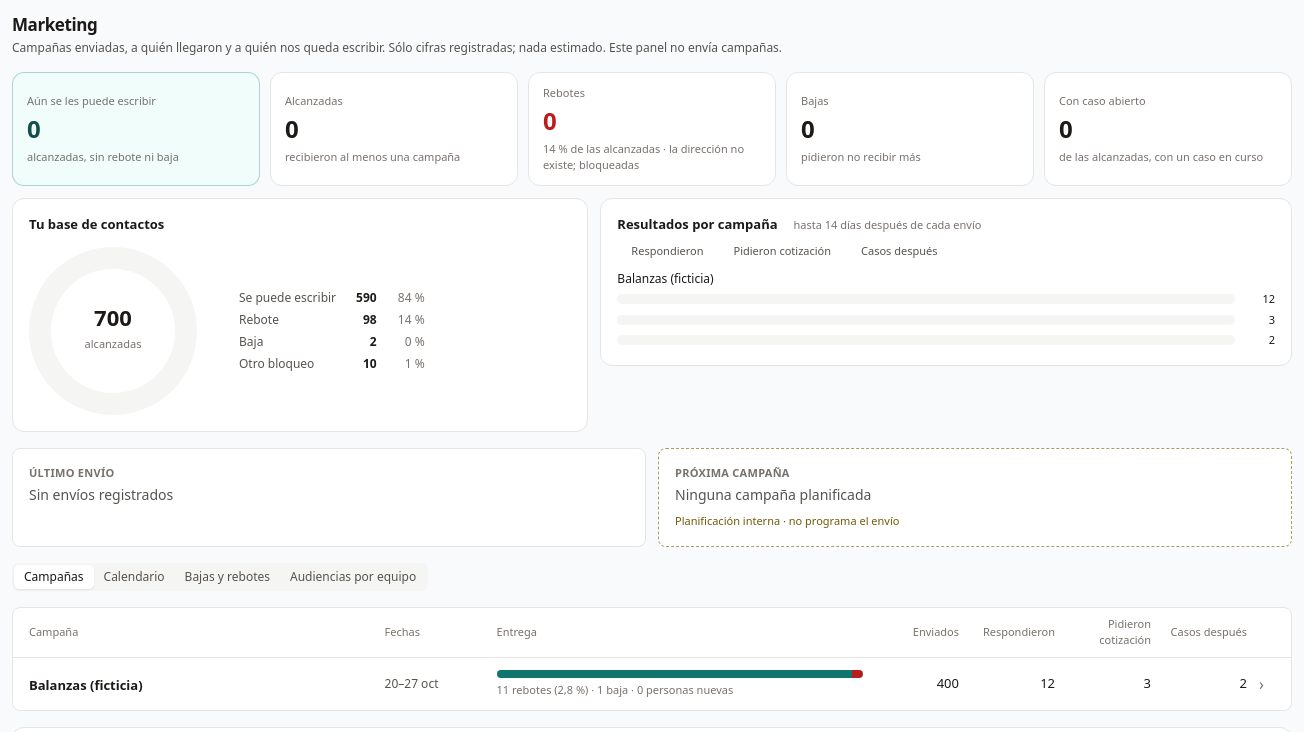
Marketing analytics › campaign row shows measured results and its click opens the detail
Click the button with test id "campaign-row". click: (646, 684)
box: [29,670,1264,698]
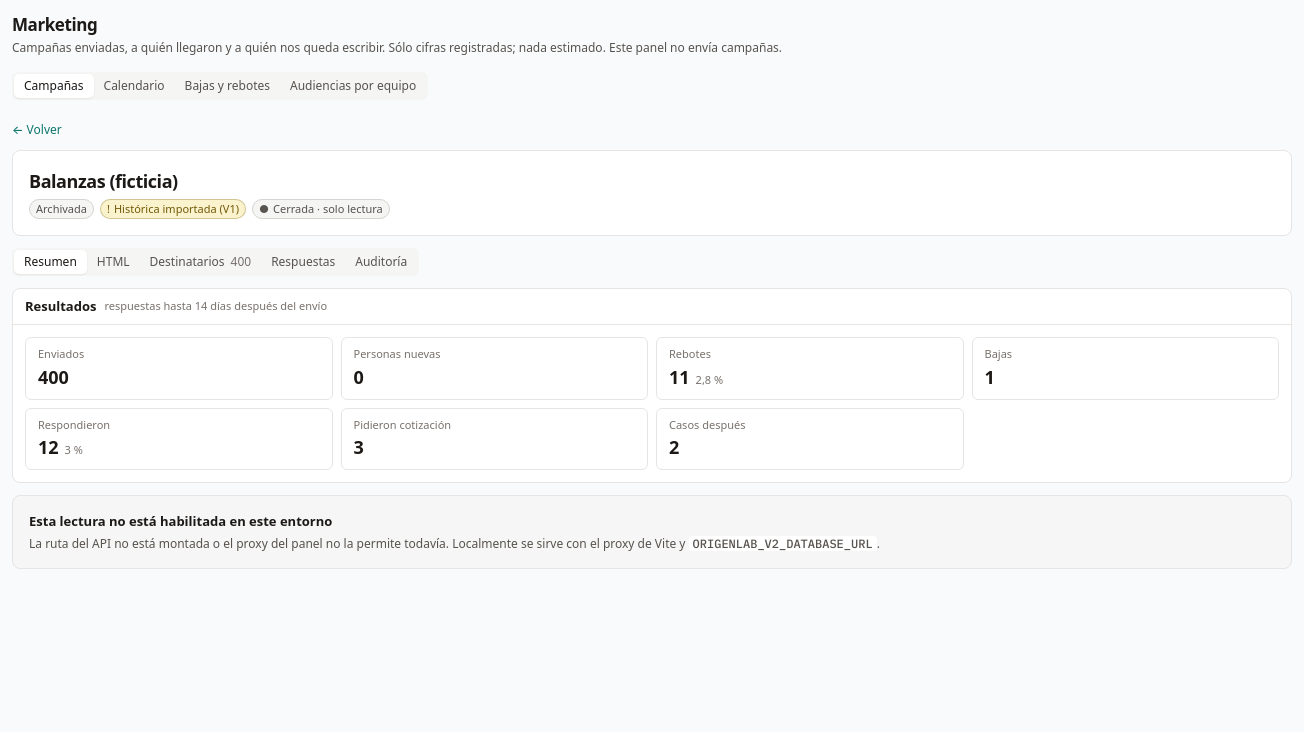
Expected: the element with test id "campaign-detail" is shown
Expected: the button with test id "result-quote_request" shows "3", [340,408,648,470]
